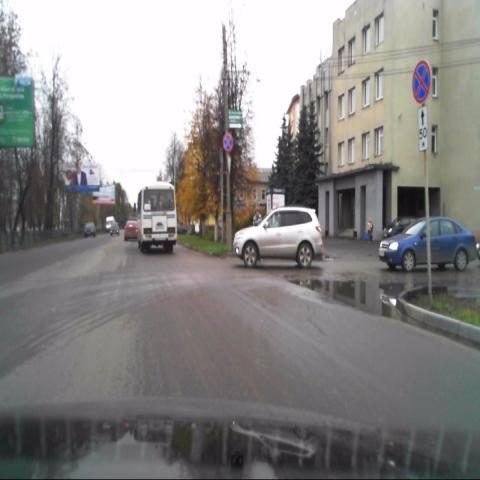8_2_2: (417, 105, 427, 152)
